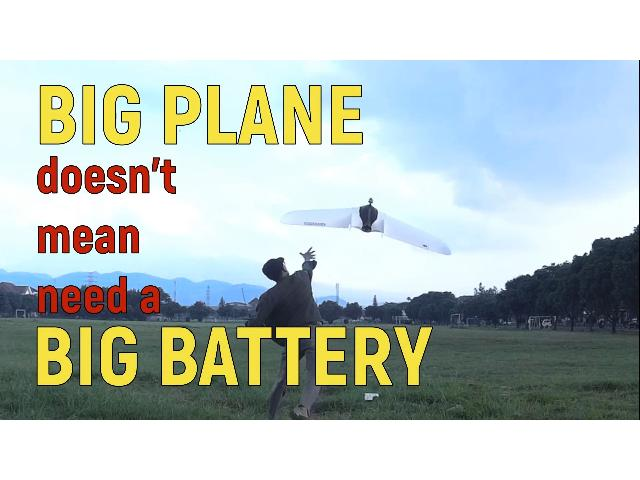Anti-Drone: (274, 185, 456, 265)
